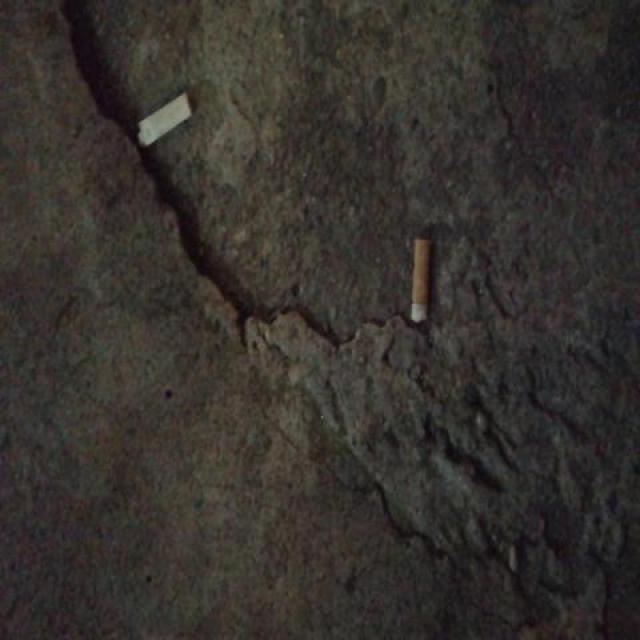non-organic waste: (131, 86, 196, 158), (406, 235, 434, 325)
